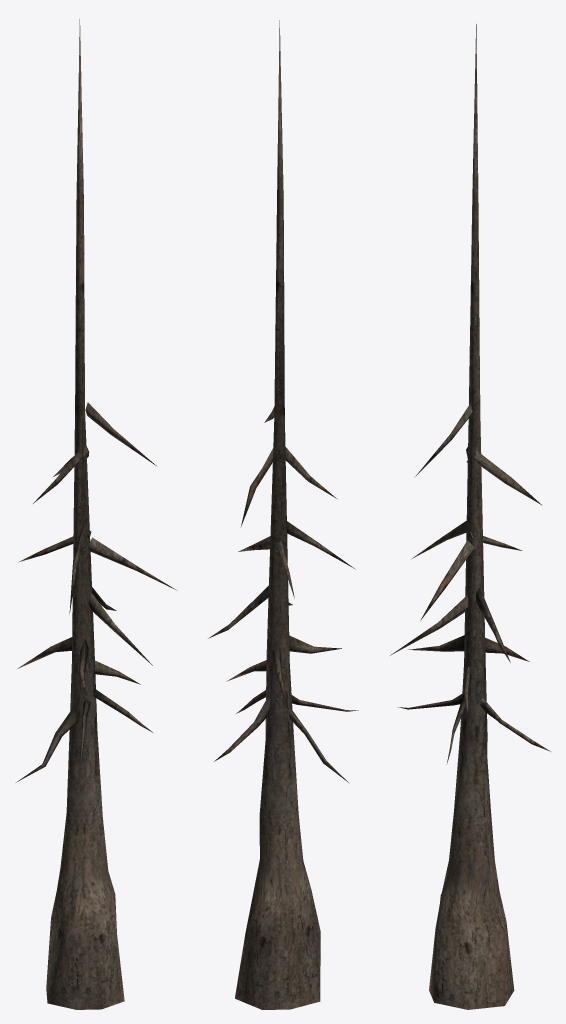
Rendered from distant-tree-25.glb.
The picture shows the model from 3 angles, left to right: view 1: azimuth 30°, elevation 25°; view 2: azimuth 150°, elevation 25°; view 3: azimuth 270°, elevation 25°; orthographic projection.
Parts seen in each view (by area): view 1: Tree_Trunk_01; view 2: Tree_Trunk_01; view 3: Tree_Trunk_01.
Part boxes in pixels (<box>): Tree_Trunk_01: <box>16,19,177,1009</box>; Tree_Trunk_01: <box>208,20,358,1009</box>; Tree_Trunk_01: <box>390,24,550,1009</box>.
Bounding box in the file's own units: 141 × 951 × 145.
1 material, 1 textured.
